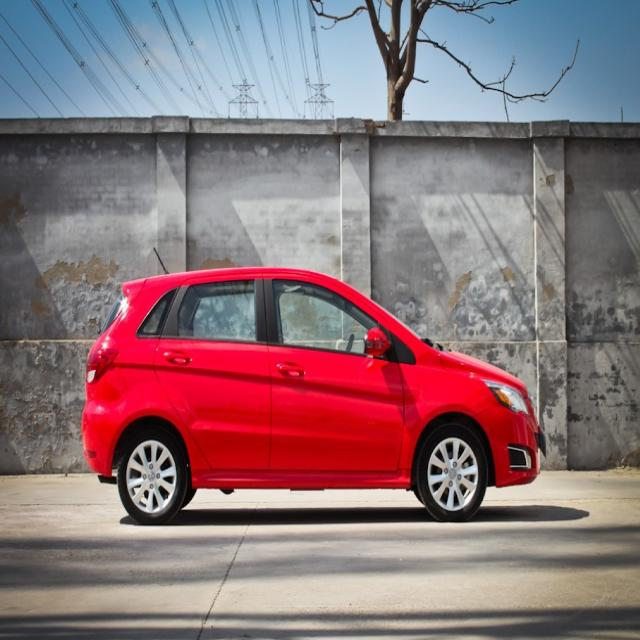back_right_side_light: (86, 332, 120, 386)
door: (154, 273, 268, 482)
front_bumper: (474, 402, 542, 488)
front_right_side_door: (260, 267, 406, 472)
front_right_side_light: (478, 377, 532, 416)
front_right_side_mirror: (362, 323, 391, 360)
rear_bumper: (82, 399, 124, 476)
wheel: (414, 419, 488, 523), (118, 428, 188, 522)
